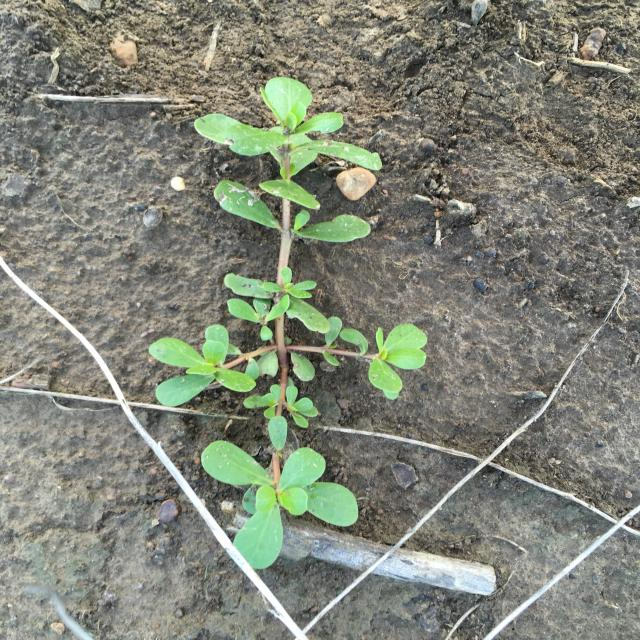Purslane: (150, 77, 428, 569)
